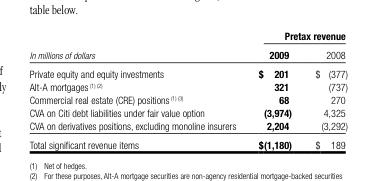table: (28, 29, 347, 150)
table column: (28, 29, 246, 150), (246, 29, 302, 150), (302, 29, 347, 150)
table column header: (28, 29, 347, 64)
table row: (28, 44, 347, 64), (28, 64, 347, 80), (28, 118, 347, 134), (28, 134, 347, 150), (28, 29, 347, 44), (28, 92, 347, 105), (28, 105, 347, 118), (28, 80, 347, 92)
table spanning cell: (28, 29, 246, 64), (246, 29, 347, 44)
